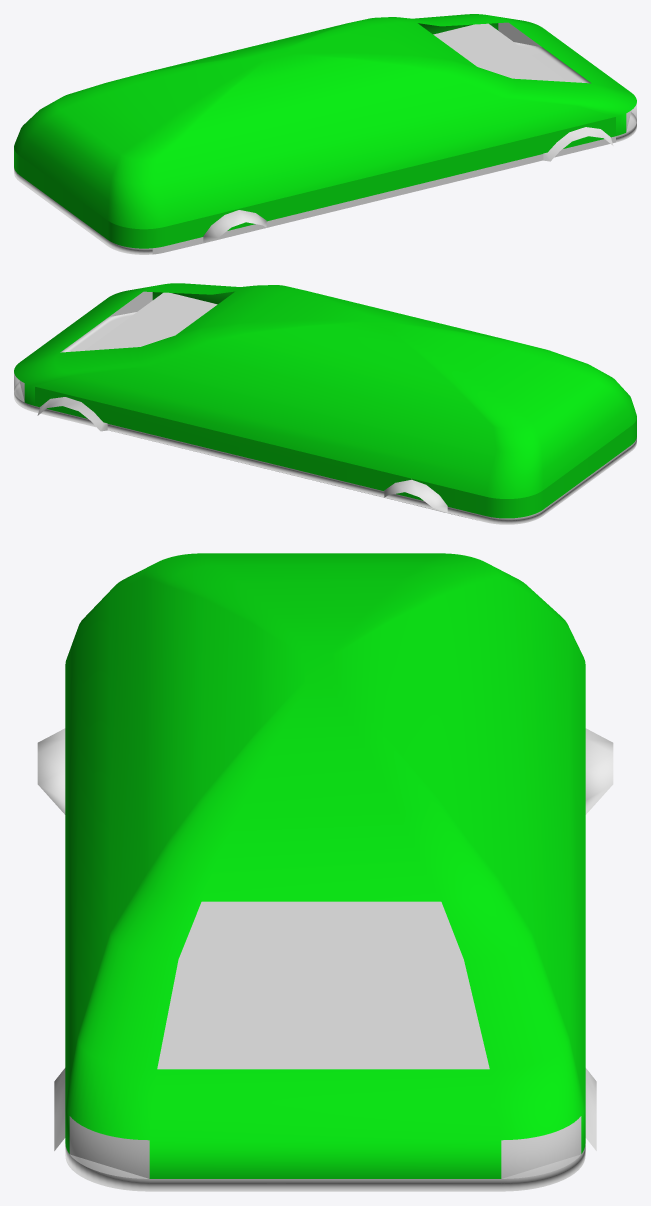
Rendered from dumbcar.glb.
3 renders of one model, top to bottom at view 1: azimuth 30°, elevation 25°; view 2: azimuth 150°, elevation 25°; view 3: azimuth 270°, elevation 25°, orthographic. The views are drawn at different scales.
Parts seen in each view (by area): view 1: Cube; view 2: Cube; view 3: Cube.
Boxes of the visible parts, x1,y1,x2,y2 form: Cube: [14, 14, 636, 254]; Cube: [14, 283, 636, 524]; Cube: [37, 553, 613, 1191].
Size of the model in its own units: 19.51 by 3.89 by 9.28.
